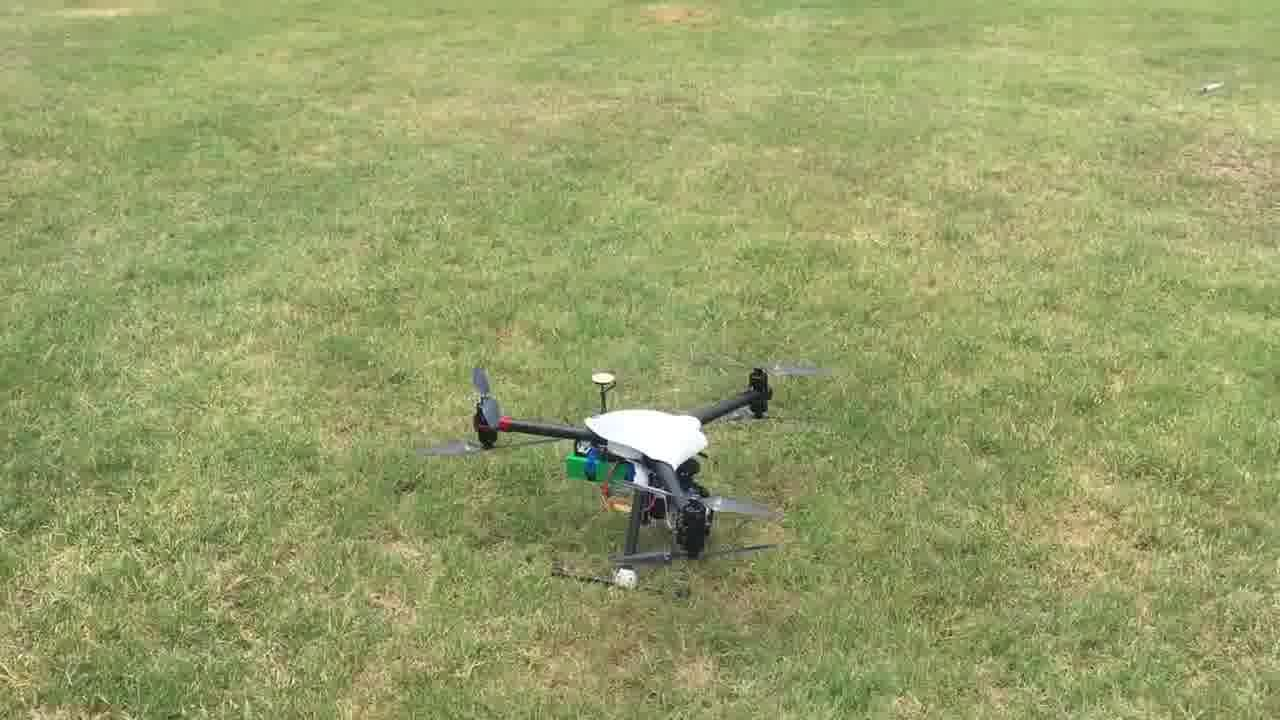drone: (416, 352, 826, 600)
